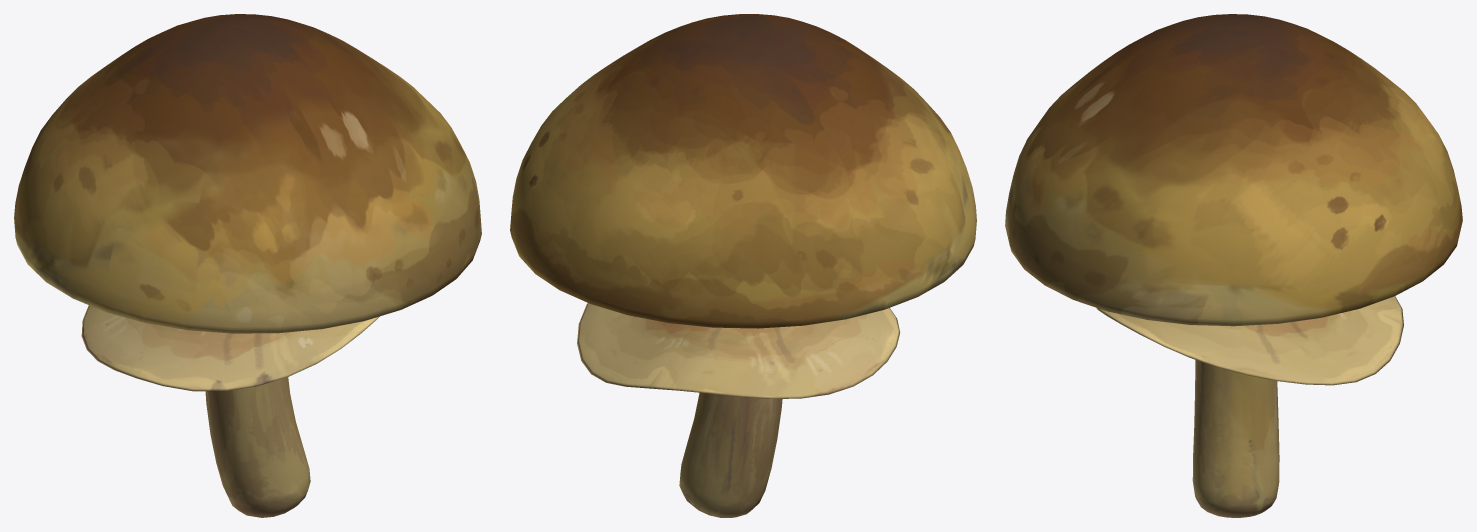
Rendered from GlowshroomAVisuals.fbx.
3 views of the same model, side by side, from view 1: azimuth 30°, elevation 25°; view 2: azimuth 150°, elevation 25°; view 3: azimuth 270°, elevation 25° (orthographic). The views are drawn at different scales.
Visible parts, largest first — view 1: GlowshroomA; view 2: GlowshroomA; view 3: GlowshroomA.
Boxes of the visible parts, <box> form: GlowshroomA: <box>14,14,481,517</box>; GlowshroomA: <box>510,14,976,517</box>; GlowshroomA: <box>1005,14,1462,517</box>.
Bounding box in the file's own units: 0.5364 × 0.6105 × 0.5364.
1 material, 1 textured.
